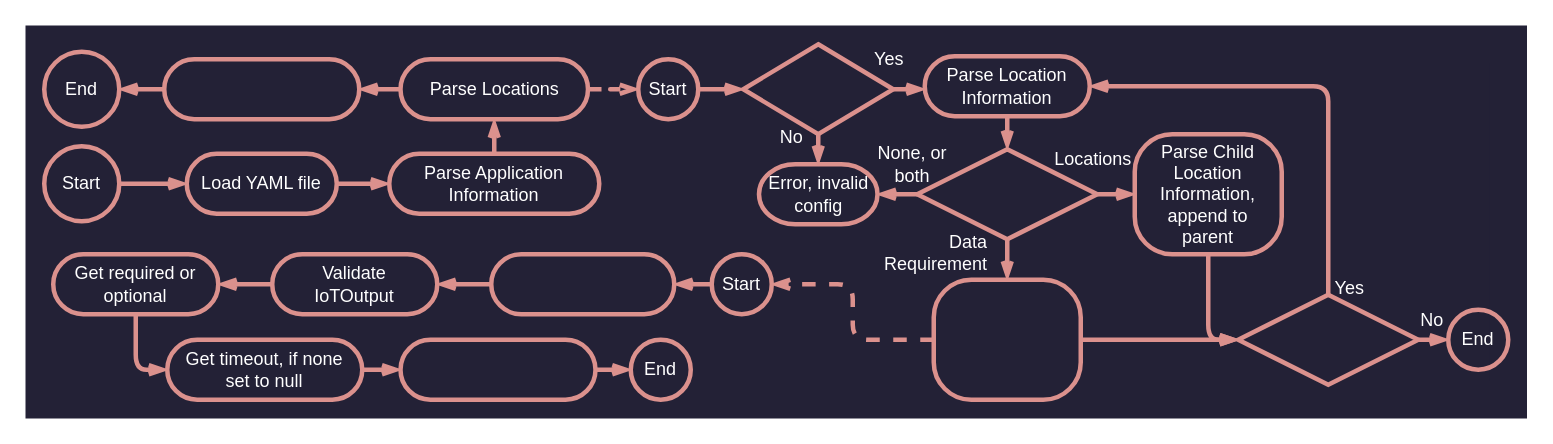
Some shapes in this 1553 by 444 pixel diagram are drawn without their labels. The centre of each missing label's shape, as x and y in pixels:
"Create empty array for components" goes at (x=582, y=283).
"Data Req or Locations" goes at (x=1006, y=193).
"Get count, if none set to null" goes at (x=497, y=369).
"Locations Exists?" goes at (x=817, y=88).
"Locations left to parse" goes at (x=1327, y=339).
"Parse Data Requirement Information, append to Location" goes at (x=1006, y=339).
"Report success or failure" goes at (x=261, y=88).
